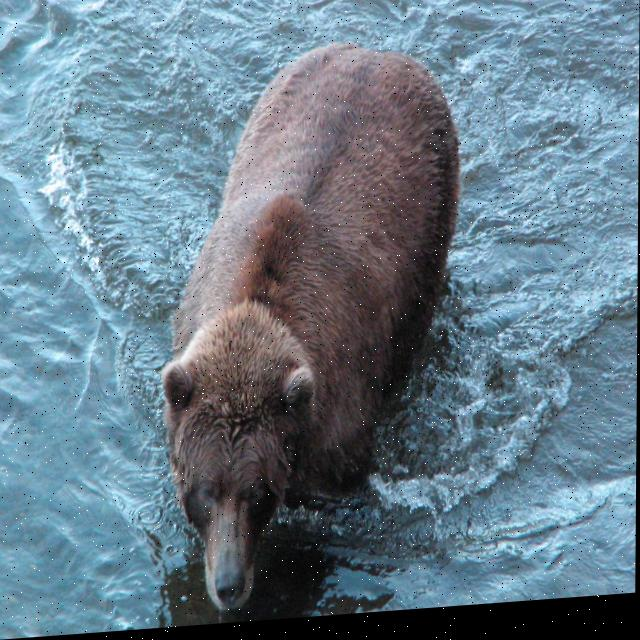bear face: (159, 46, 462, 620)
